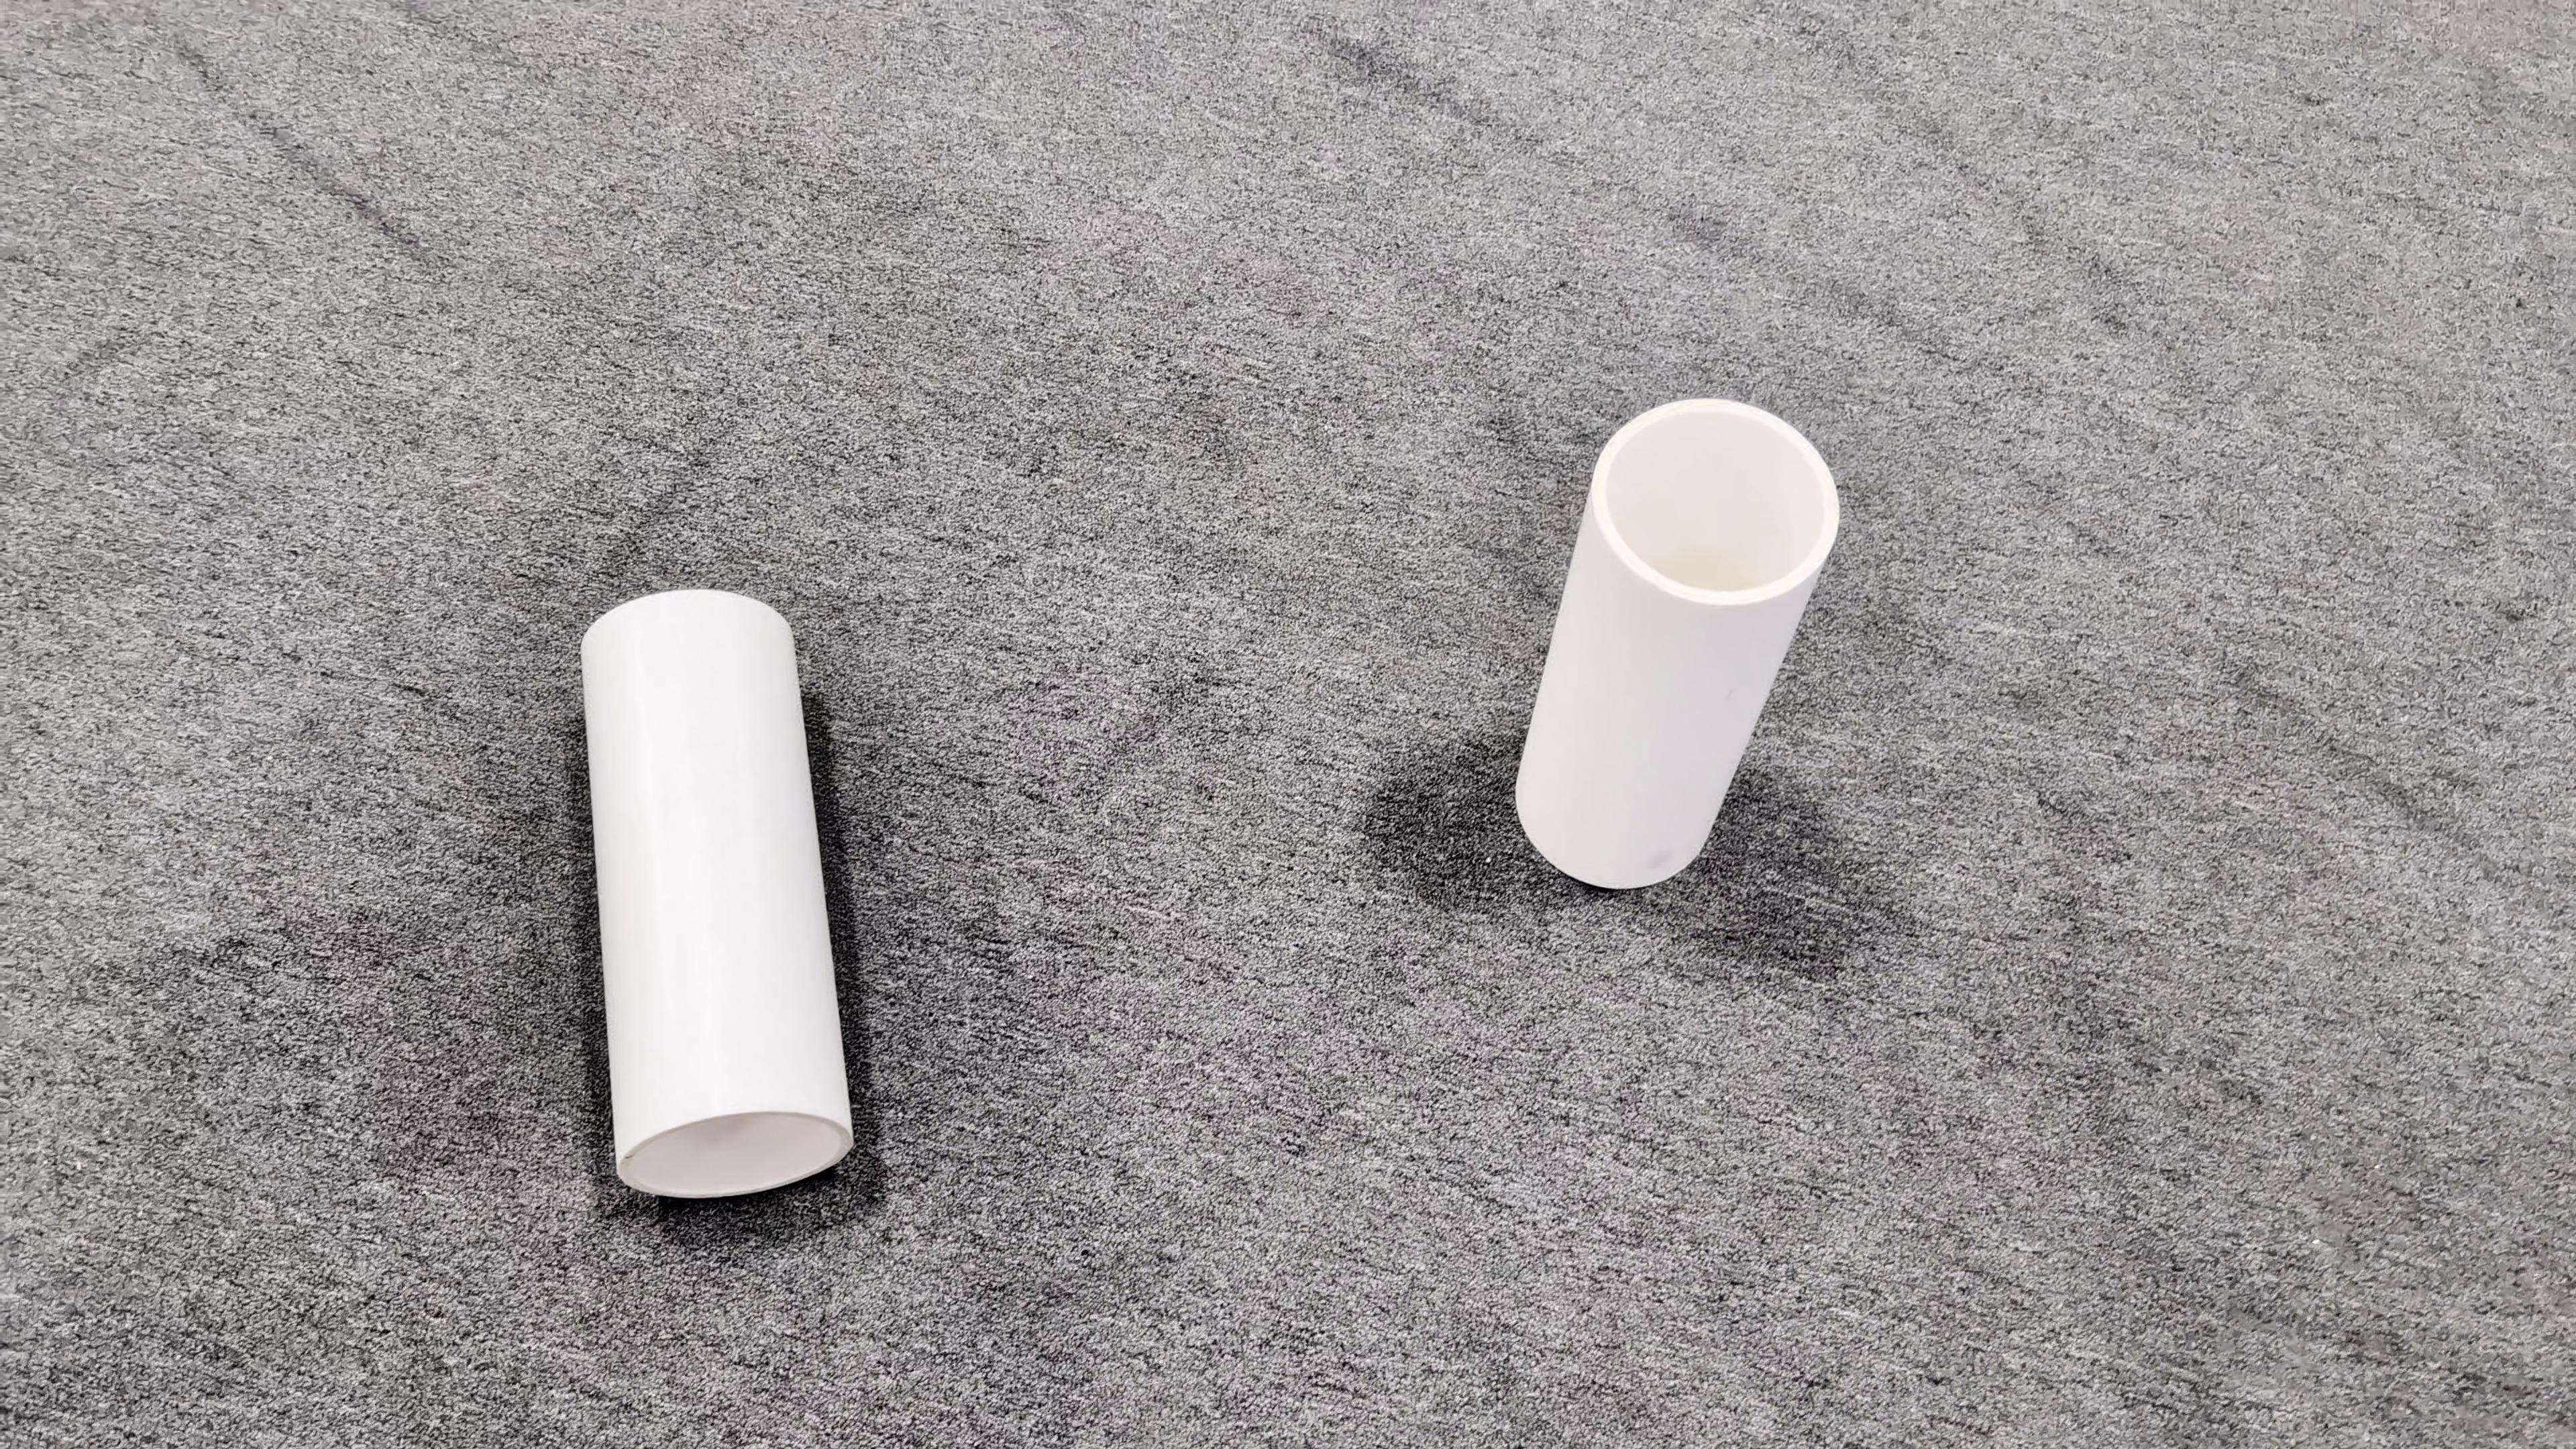coral: (584, 589, 855, 1198), (1516, 398, 1838, 892)
